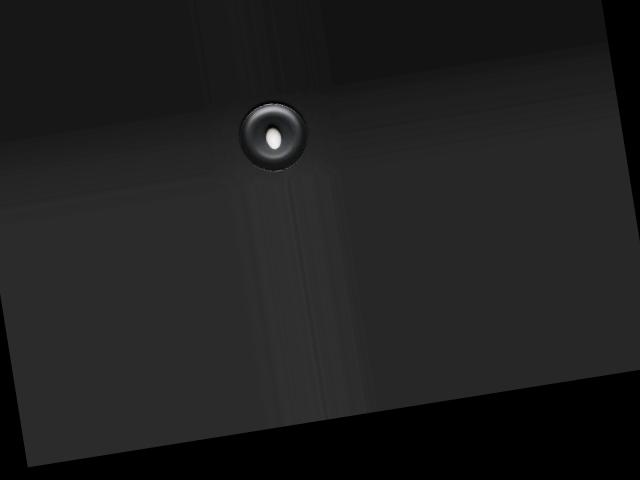egg: (264, 126, 282, 149)
